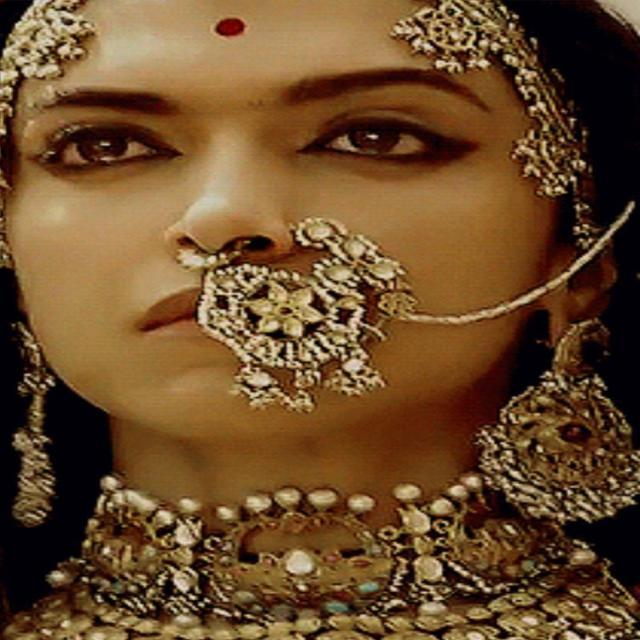Earring: (471, 302, 640, 537), (2, 310, 66, 540)
